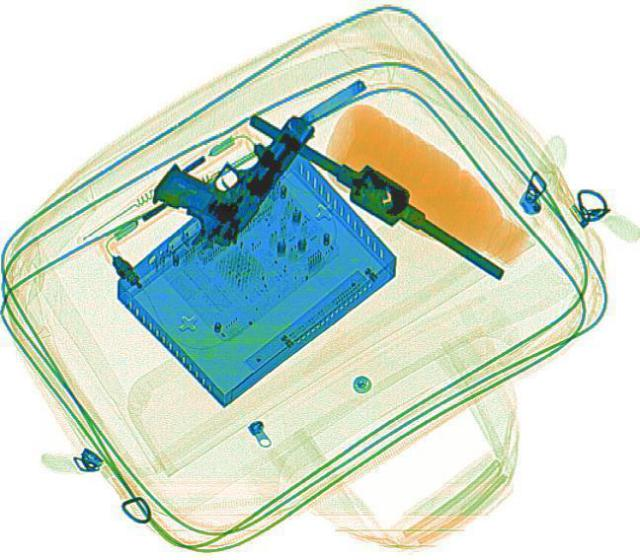Gun: (130, 82, 318, 257)
